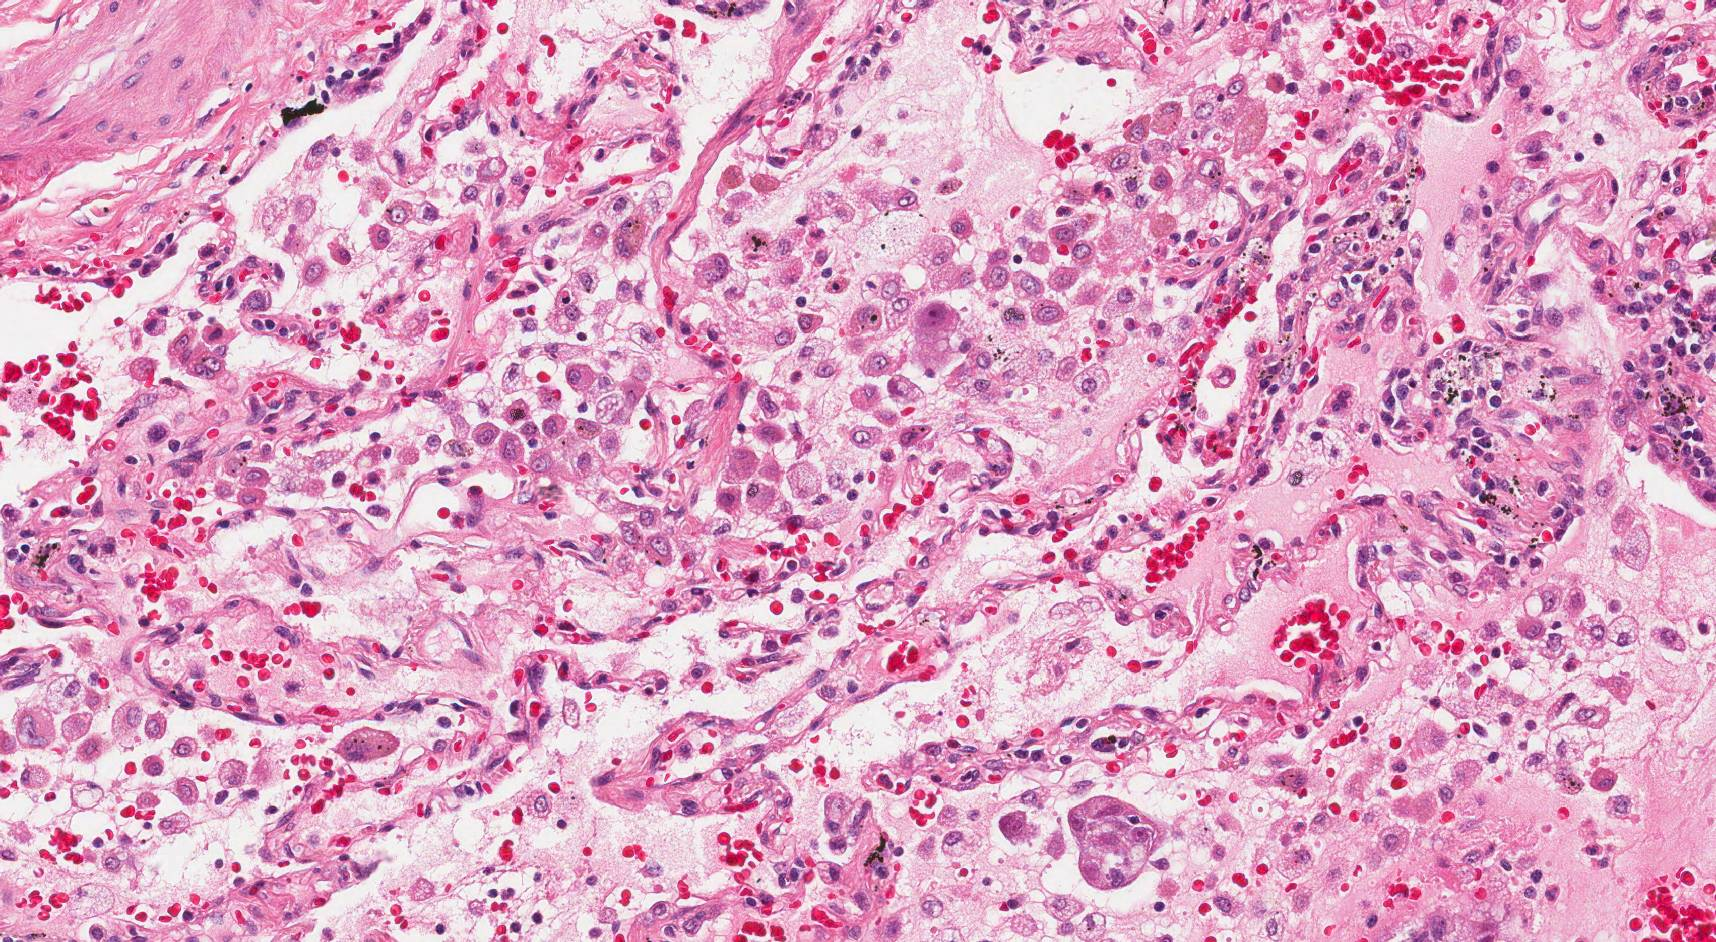stas: (1067, 794, 1169, 890)
